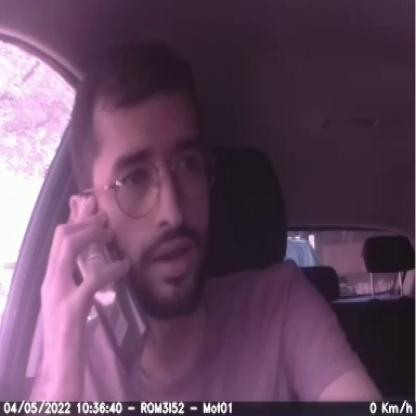phone: (63, 200, 156, 386)
